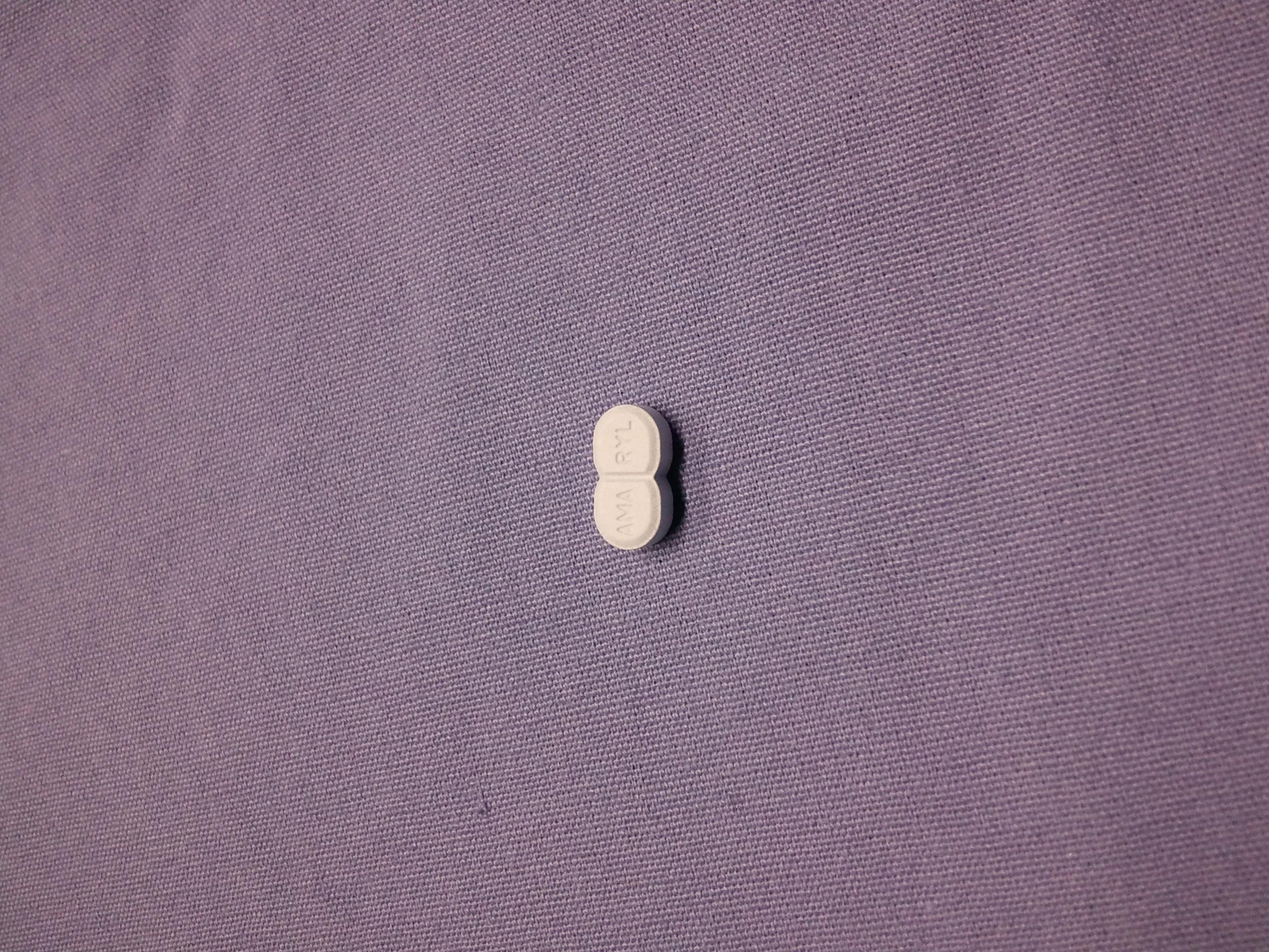Pill: (565, 385, 694, 579)
